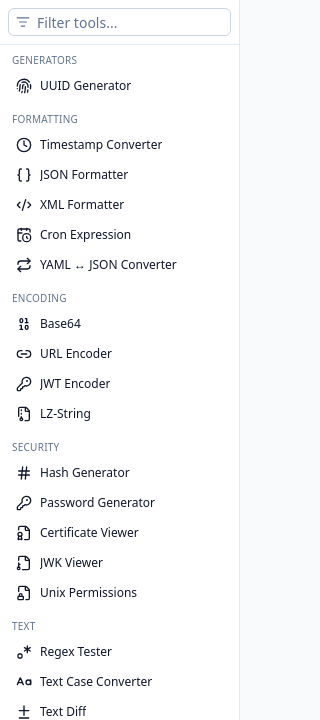
Scenario: WidgetSidebar › shows the full tool list, grouped by category, and narrows it as you type
Expected: the text "JSON Formatter" is shown, top-left (40, 167), bottom-right (128, 183)
Expected: the text "UUID Generator" is shown, top-left (40, 78), bottom-right (131, 94)
Type "json" into the field with placeholder "Filter tools...".
click(120, 22); type("json")  # box top-left (8, 8), bottom-right (231, 36)
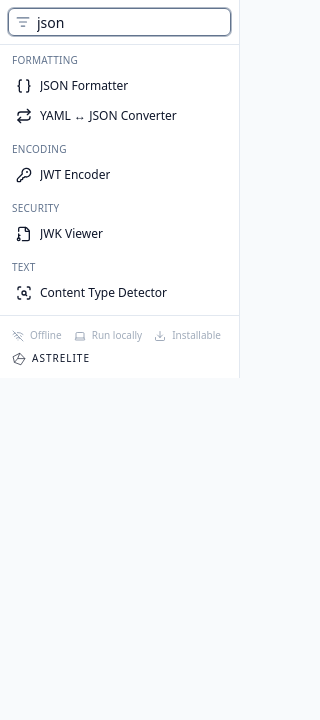
Expected: the text "JSON Formatter" is shown, top-left (40, 78), bottom-right (128, 94)
Now the button "UUID Generator" is gone
